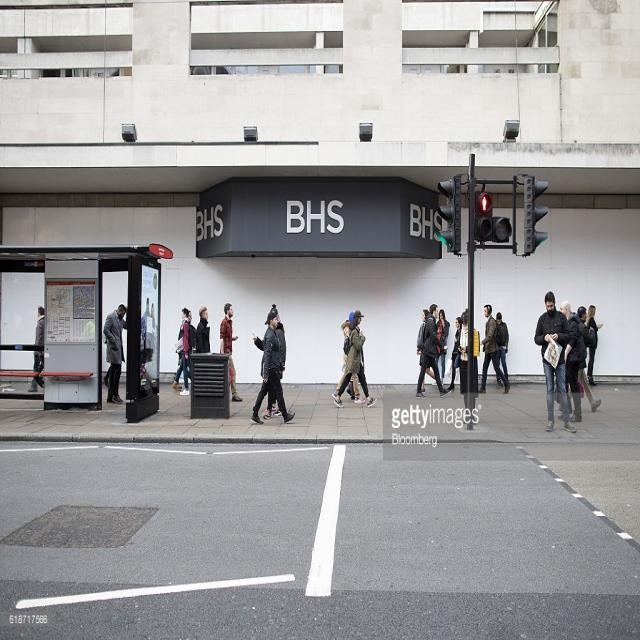body: (532, 289, 578, 435), (249, 310, 296, 426), (332, 308, 378, 409), (250, 306, 288, 420), (568, 304, 603, 414), (414, 301, 451, 399), (559, 300, 588, 424), (452, 306, 481, 426), (330, 310, 366, 404), (476, 302, 511, 395), (102, 303, 128, 405), (219, 302, 243, 404), (416, 307, 441, 394), (268, 303, 286, 414), (170, 310, 192, 393), (178, 306, 198, 397), (26, 304, 45, 393), (584, 302, 604, 386), (431, 308, 451, 387), (445, 316, 463, 392), (494, 312, 510, 388), (140, 293, 158, 358), (195, 304, 211, 353), (103, 362, 112, 388), (346, 378, 355, 401), (177, 380, 182, 390)
